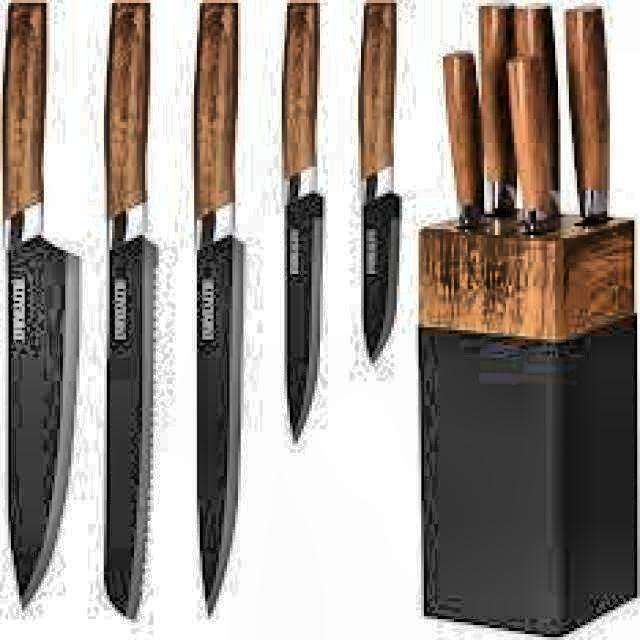knife: (3, 0, 85, 610), (100, 0, 162, 621), (192, 0, 246, 625), (276, 0, 330, 456), (354, 0, 406, 376)
